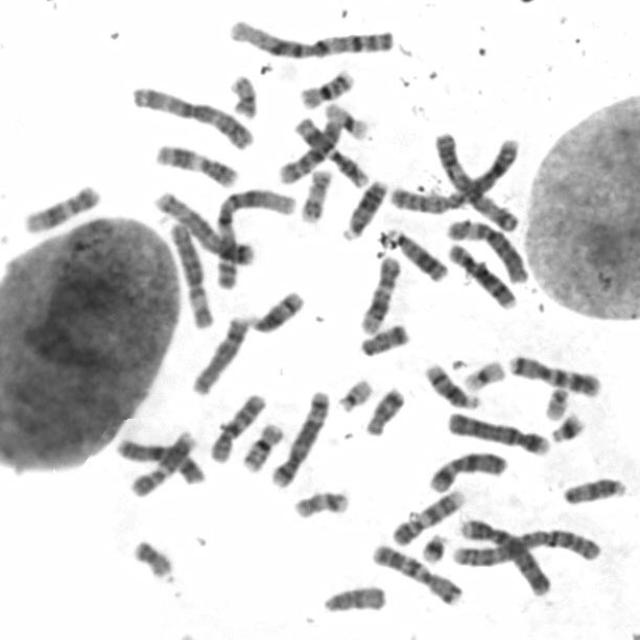A1: (212, 183, 297, 292), (223, 15, 394, 62)
A2: (386, 134, 522, 215), (447, 524, 602, 568)
A3: (431, 128, 520, 234), (126, 82, 256, 152)
B4: (456, 513, 554, 597), (442, 407, 551, 457)
B5: (149, 188, 257, 268), (268, 386, 332, 489)
C10: (274, 115, 344, 186), (206, 389, 268, 464)
C11: (291, 114, 371, 188), (152, 141, 240, 189)
C12: (19, 180, 101, 236), (356, 254, 402, 336)
C6: (444, 214, 530, 285), (166, 217, 216, 330)
C7: (368, 540, 464, 607), (504, 351, 602, 398)
C8: (444, 238, 519, 312), (187, 312, 250, 398)
C9: (126, 428, 200, 497), (388, 486, 466, 547)
D13: (382, 225, 450, 284), (338, 176, 391, 241)
D14: (421, 360, 481, 412), (246, 287, 306, 336)
D15: (558, 474, 628, 506), (320, 582, 388, 614)
E16: (294, 65, 357, 110), (238, 420, 287, 472)
E17: (297, 166, 334, 224), (290, 486, 351, 520)
E18: (361, 385, 407, 437), (355, 321, 410, 358)
F19: (320, 100, 370, 141), (461, 356, 506, 393)
F20: (128, 535, 176, 582), (226, 71, 259, 119)
G21: (547, 410, 587, 446), (418, 529, 449, 564)
G22: (333, 374, 375, 414), (540, 383, 571, 421)
X: (112, 439, 209, 487), (425, 449, 509, 494)
